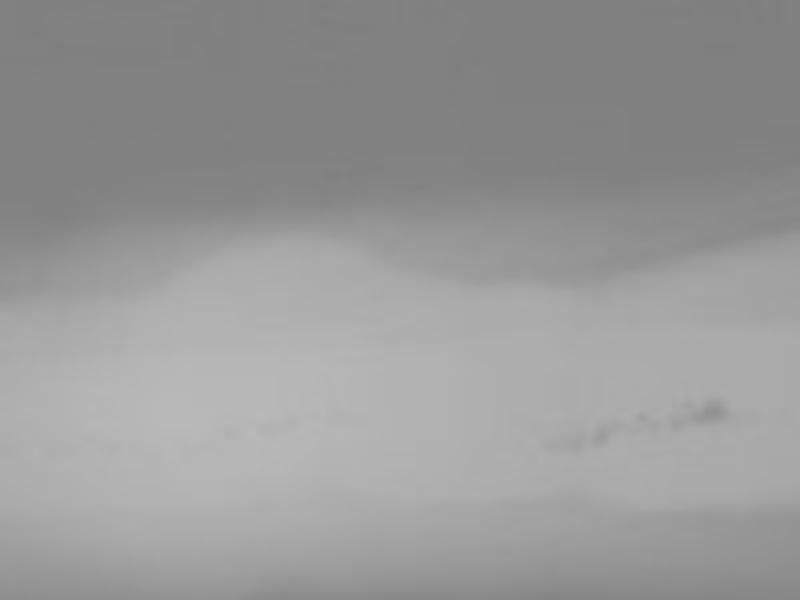defect: (541, 428, 585, 459), (629, 412, 659, 436), (705, 393, 730, 421), (589, 421, 612, 445), (668, 412, 686, 431), (693, 410, 706, 426)
